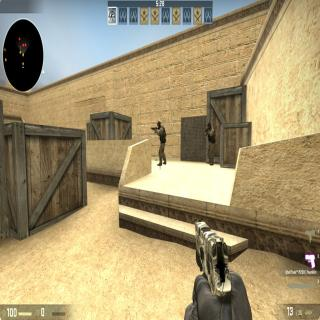CT-Body: (155, 120, 166, 165), (205, 121, 215, 165)
CT-Head: (206, 120, 211, 130), (156, 121, 161, 128)
